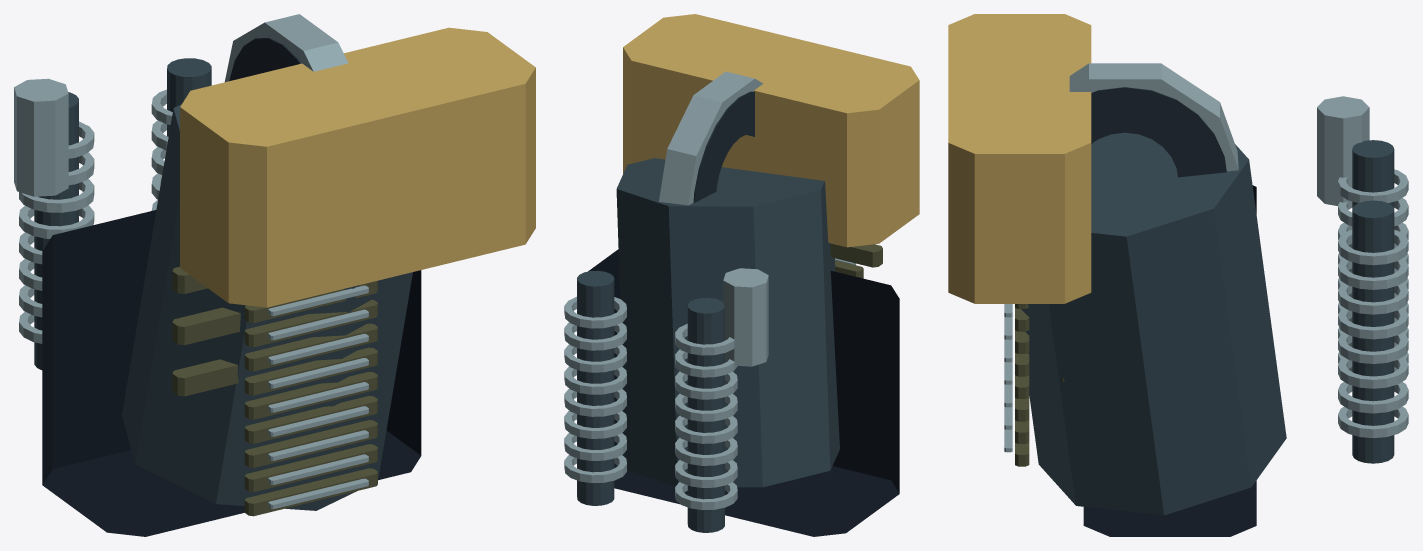
Rendered from enemy_gunner_4k_shin_r.obj.
3 renders of one model, left to right at view 1: azimuth 30°, elevation 25°; view 2: azimuth 150°, elevation 25°; view 3: azimuth 270°, elevation 25°, orthographic. The views are drawn at different scales.
Size of the model in its own units: 0.51 by 0.6084 by 0.612.
